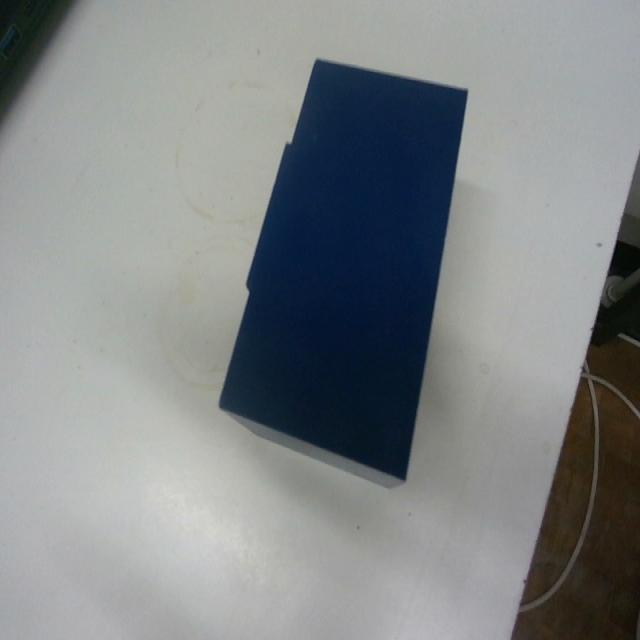Blue Cuboid: (216, 55, 469, 488)
